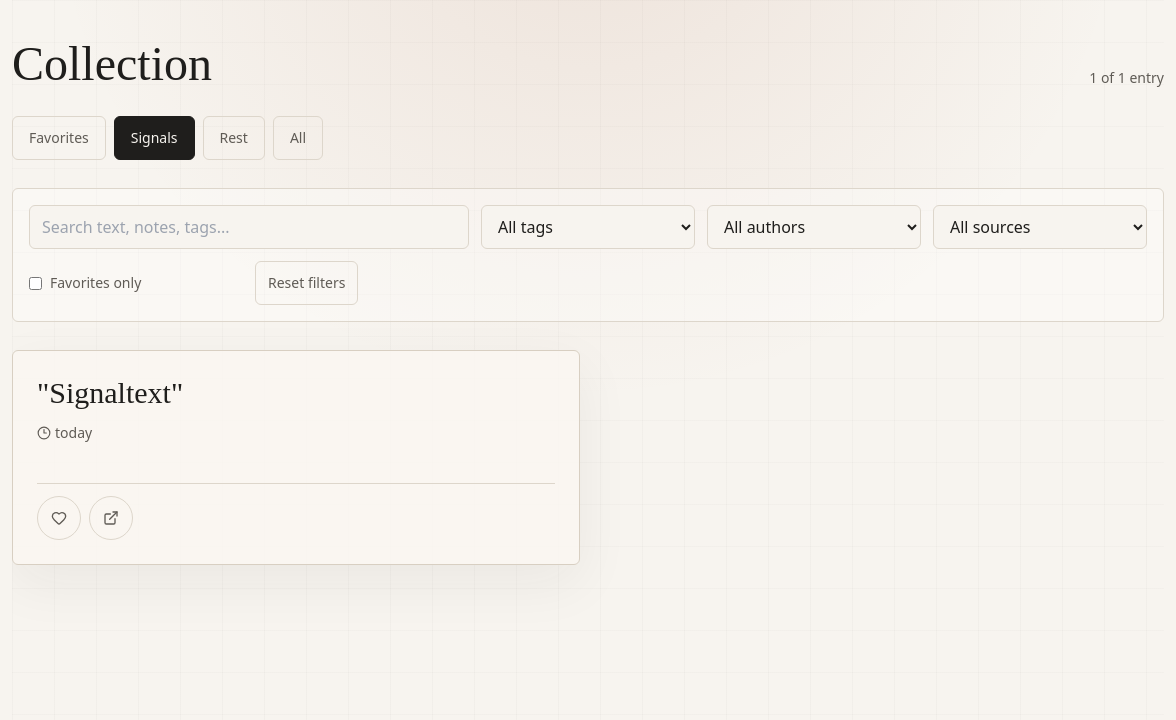
Test case: LibraryPage › shows signals and rest together in the all view, never noise
Click the button "All".
click(298, 138)  # box [273,116,323,160]
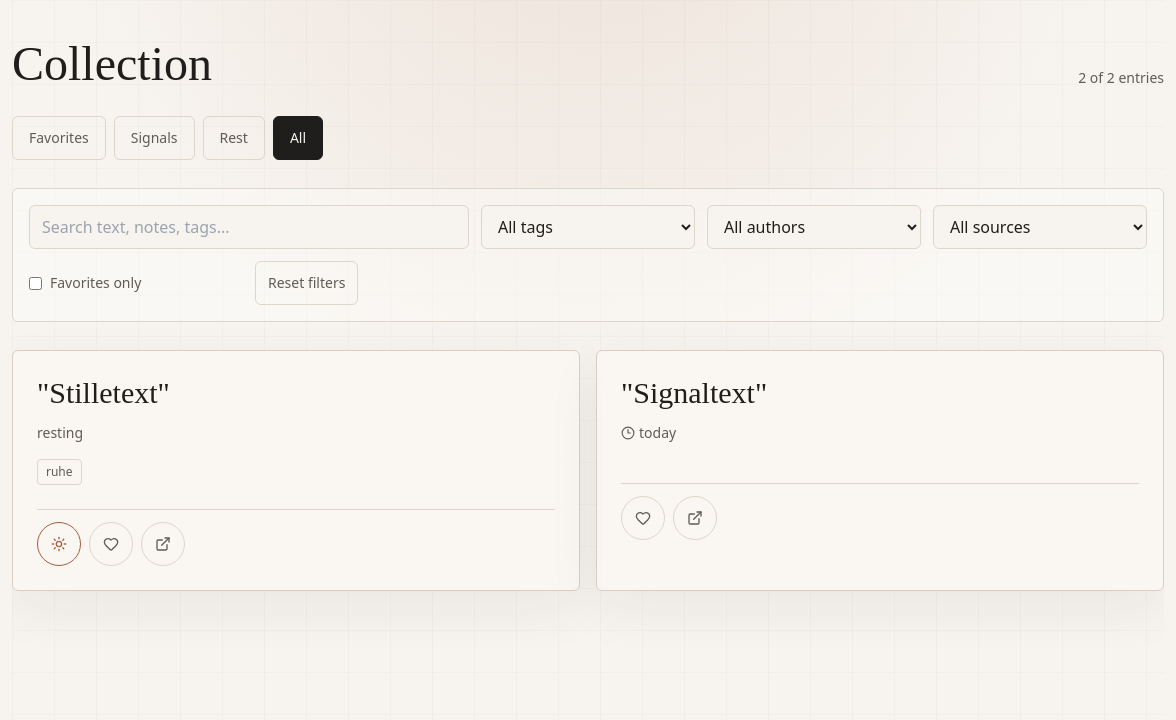
Expected: the text "\"Signaltext\"" is shown, [621,376,767,409]
Result: the text "\"Stilletext\"" is shown at [37,376,170,409]
